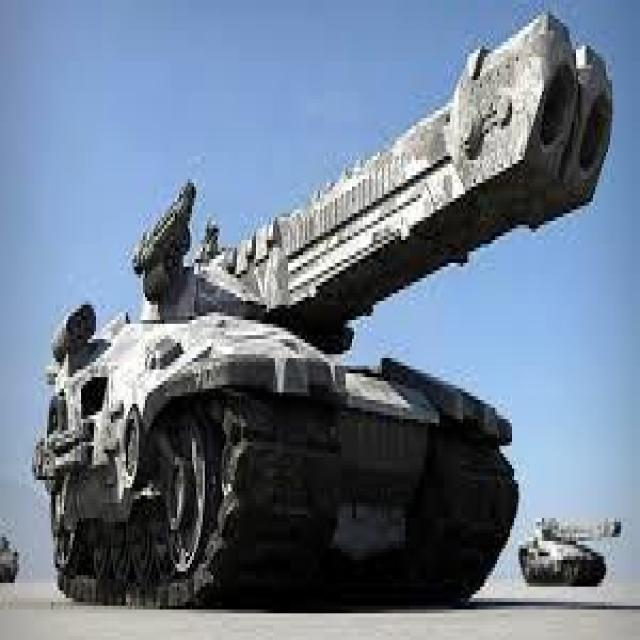Tanks: (20, 139, 526, 604)
